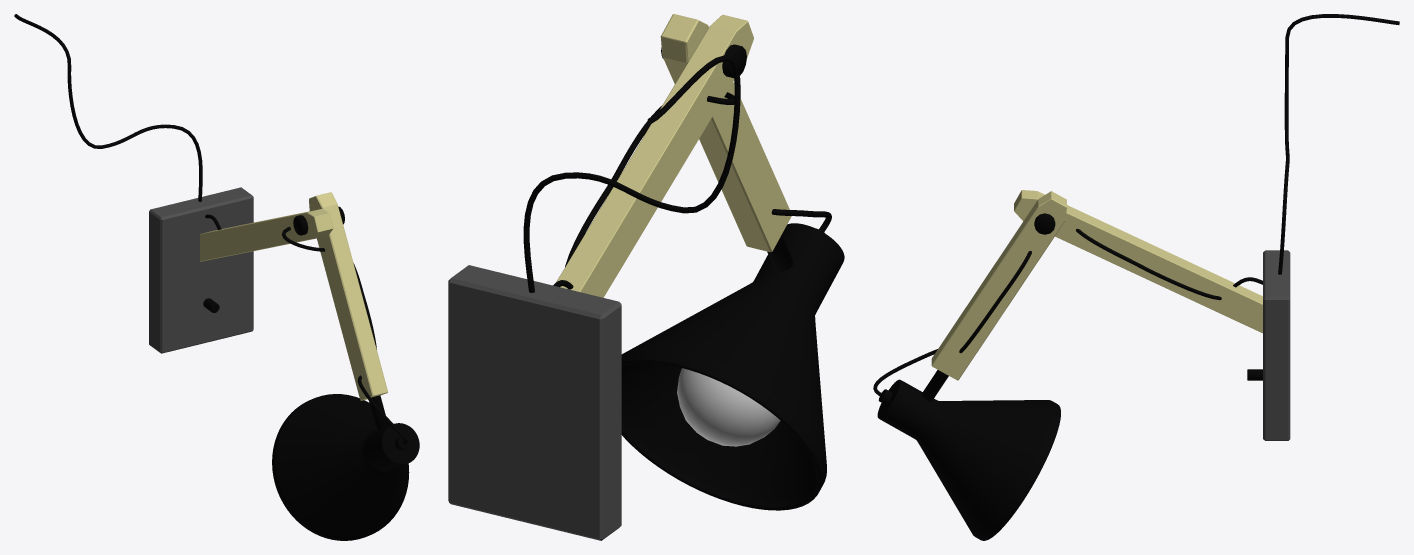
The model's file is lamp.obj.
The picture shows the model from 3 angles, left to right: view 1: azimuth 30°, elevation 25°; view 2: azimuth 150°, elevation 25°; view 3: azimuth 270°, elevation 25°; orthographic projection. The views are drawn at different scales.
Parts seen in each view (by area): view 1: BezierCurve; view 2: BezierCurve; view 3: BezierCurve.
Part boxes in pixels (<box>): BezierCurve: <box>14,14,419,540</box>; BezierCurve: <box>448,14,844,540</box>; BezierCurve: <box>873,14,1399,540</box>.
Size of the model in its own units: 5.3 by 10.16 by 10.9.
